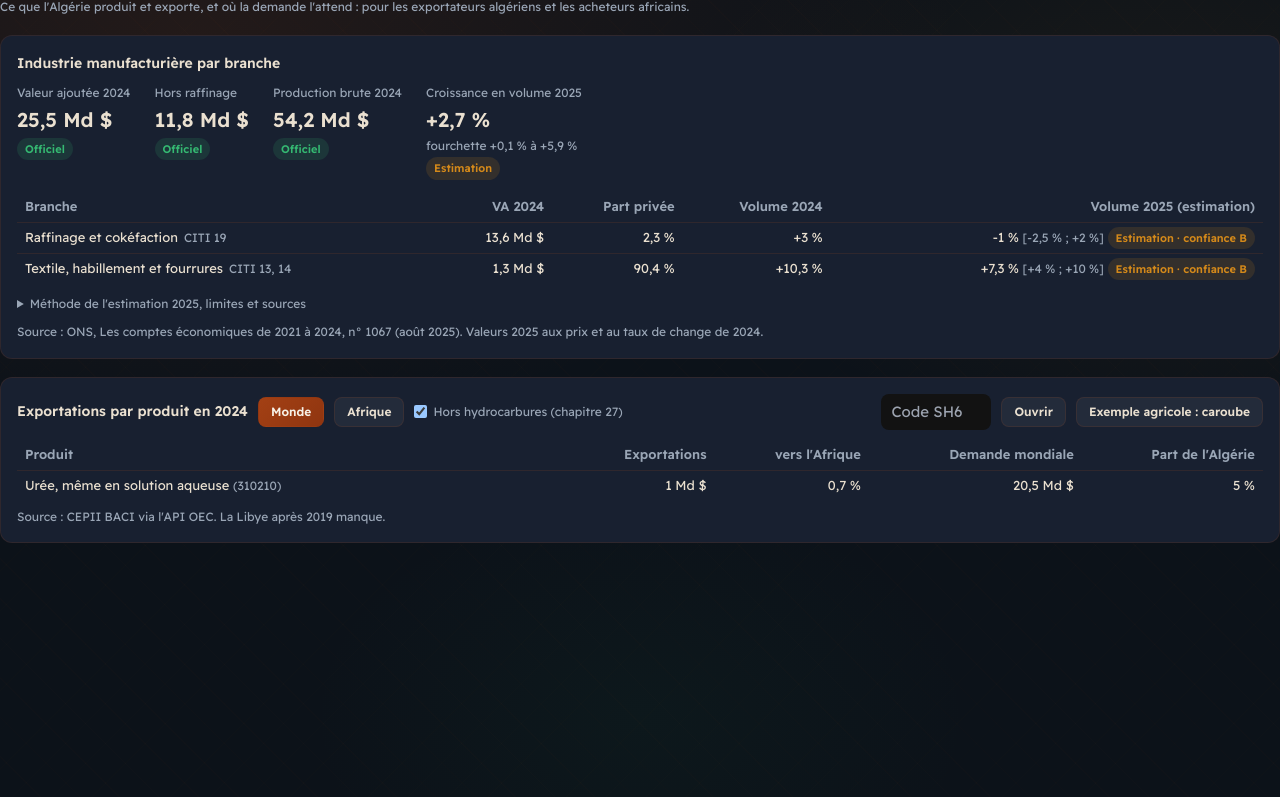
NationalIndustryView › ouvre la fiche caroube et montre les marchés où l’Algérie est absente
Check: the element with test id "dza-exportations" is shown, box [0,376,1279,543]
Click the button with test id "raccourci-caroube" at (1170, 412), box [1076,397,1263,427]
(page scrolled)
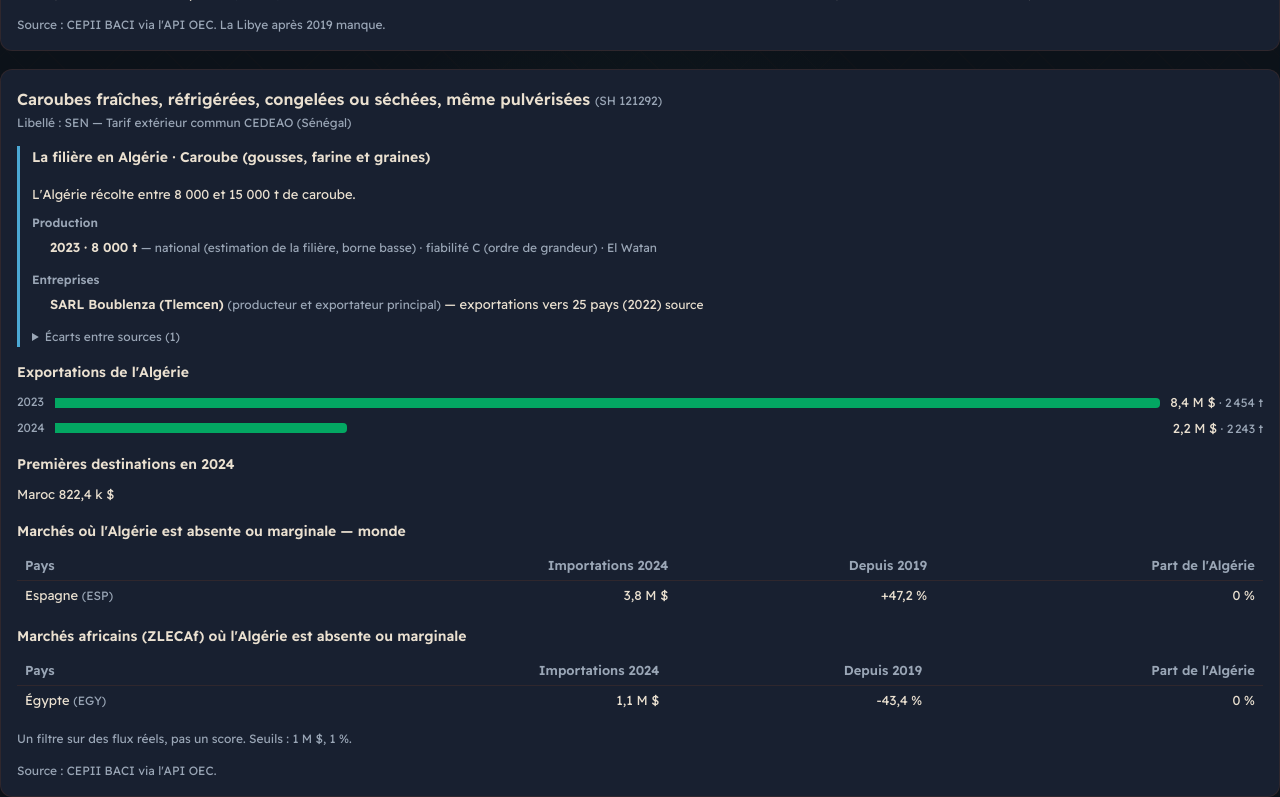
Check: the element with test id "fiche-produit" shows "Caroubes", box [17,89,590,109]
Check: the table with test id "absents-monde" shows "Espagne", box [25,587,78,603]
Check: the table with test id "absents-afrique" shows "Égypte", box [25,692,70,708]
